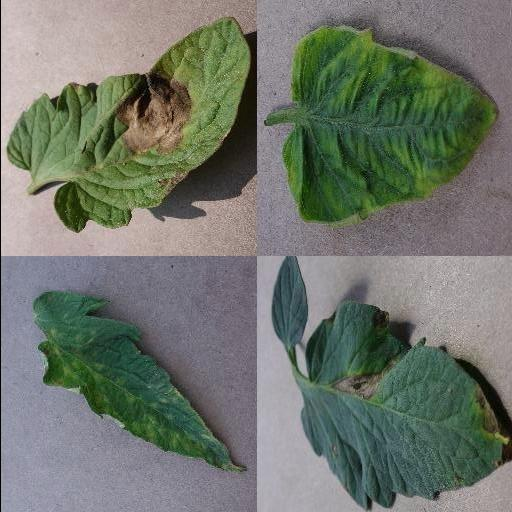Early Blight: (301, 299, 510, 512)
Healthy: (270, 256, 309, 346)
Late Blight: (4, 17, 250, 233)
Leaf Mold: (33, 290, 247, 472)
Yellow Leaf Curl Virus: (284, 23, 498, 225)
